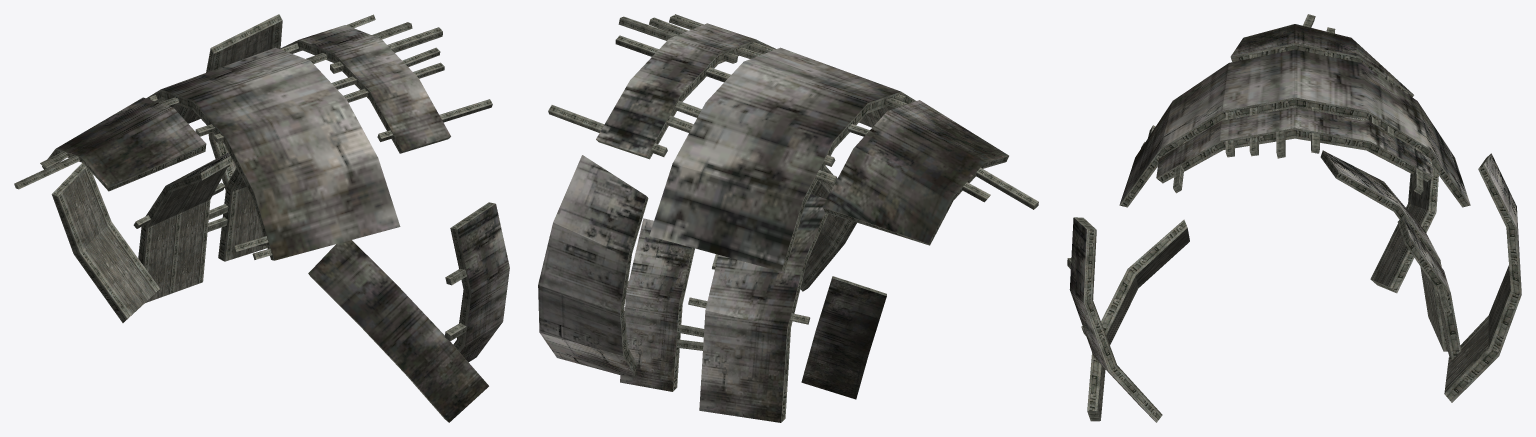
Rendered from thm_tato_lucky_despot_debris_nose_cone_l0.fbx.
The picture shows the model from 3 angles, left to right: view 1: azimuth 30°, elevation 25°; view 2: azimuth 150°, elevation 25°; view 3: azimuth 270°, elevation 25°; orthographic projection. The views are drawn at different scales.
Parts seen in each view (by area): view 1: mesh_node; view 2: mesh_node; view 3: mesh_node.
Part boxes in pixels (x1,y1,x2,y2): mesh_node: [14, 14, 509, 422]; mesh_node: [538, 14, 1038, 422]; mesh_node: [1067, 14, 1521, 422].
Size of the model in its own units: 17.38 by 12.36 by 16.3.
Materials: 2 (2 with a texture image).
